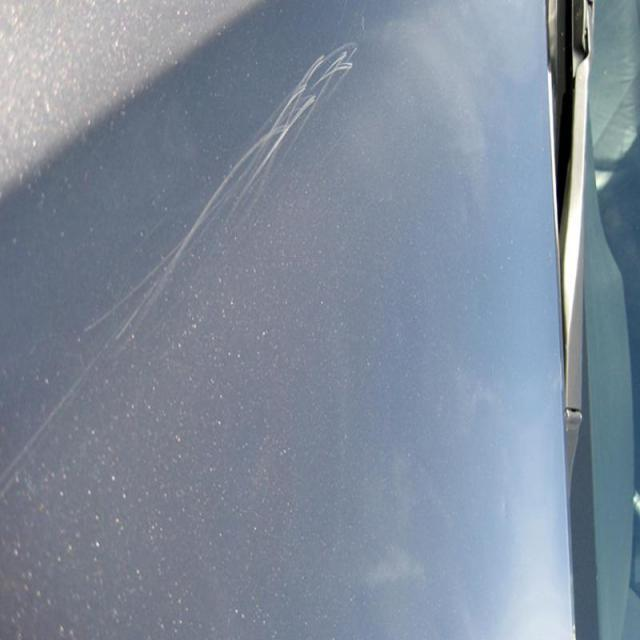scratch: (56, 18, 365, 414)
